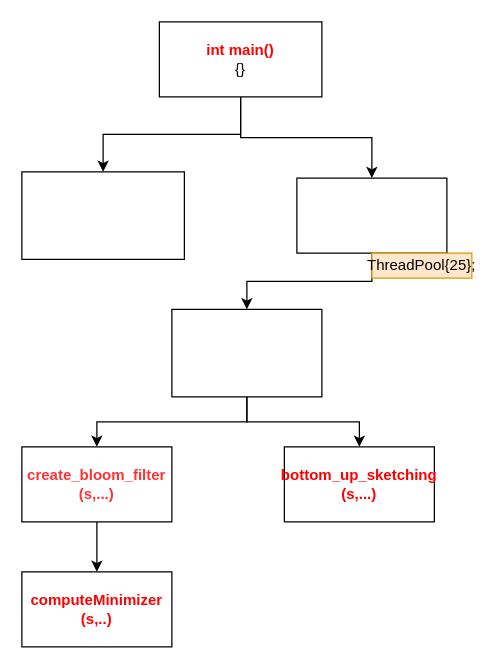
Image size: 498x669. Some labels were removed from this diagram. The centre of each missing label's shape, as x and y in pixels:
run_program(args,s): pixel 246 352
Shape_Generator seqan3::shape s; vector<seqan3::shape>: pixel 102 215
ThreadingPool: pixel 371 215
